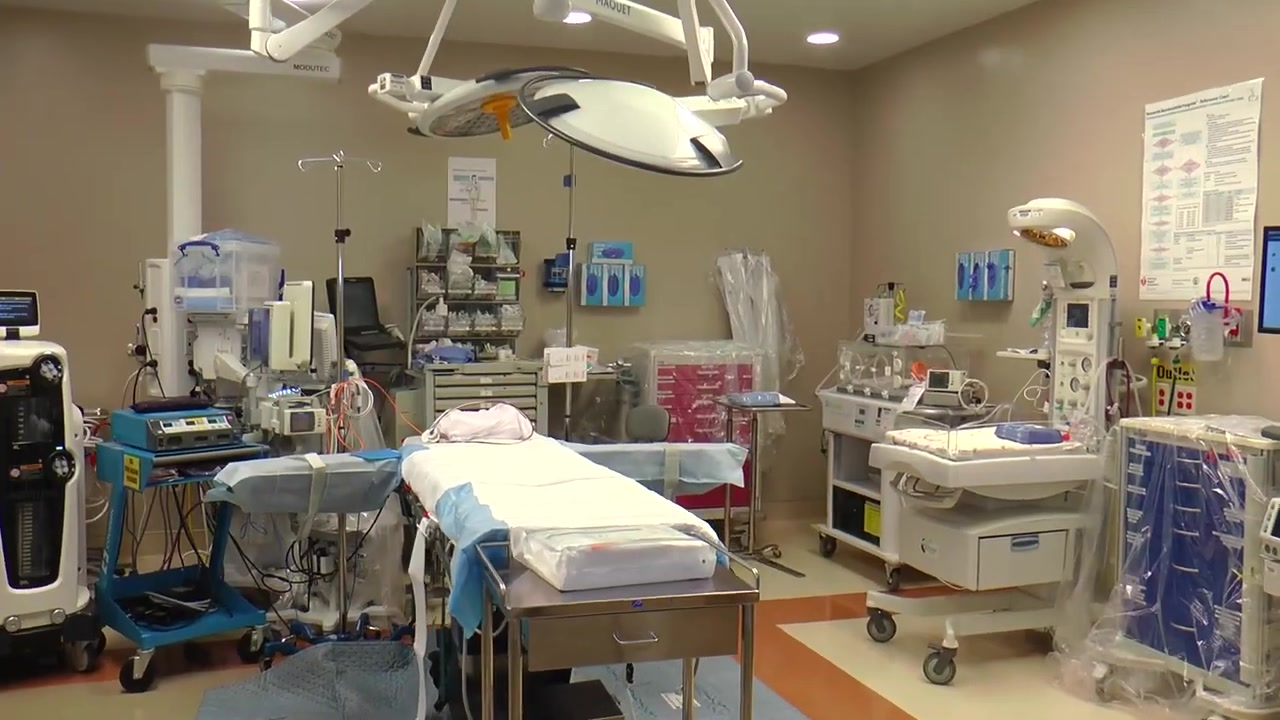computer: (326, 276, 399, 350)
dispenser: (576, 243, 645, 308), (955, 251, 1016, 306)
electrosurgical_unit: (118, 400, 244, 456)
handle: (603, 624, 664, 650), (1008, 535, 1041, 554), (1168, 557, 1201, 576), (1172, 453, 1207, 470), (1169, 523, 1203, 540), (1173, 475, 1204, 492), (1173, 499, 1205, 515), (694, 411, 721, 420), (694, 425, 721, 434), (694, 383, 722, 391), (695, 369, 720, 377), (694, 398, 715, 407)
iv_pole: (291, 154, 386, 631), (542, 125, 592, 437), (873, 279, 911, 322)
medical_drawer: (1120, 412, 1280, 720), (631, 341, 765, 519), (412, 350, 549, 438)
operating_bed: (400, 424, 722, 690)
panda_baby_warmer: (865, 197, 1123, 687)
surgical_instrument: (731, 387, 813, 559)
surgical_light: (526, 68, 743, 179), (414, 64, 590, 149)
utility_cart: (474, 531, 761, 720), (818, 384, 997, 596), (712, 394, 813, 578)
